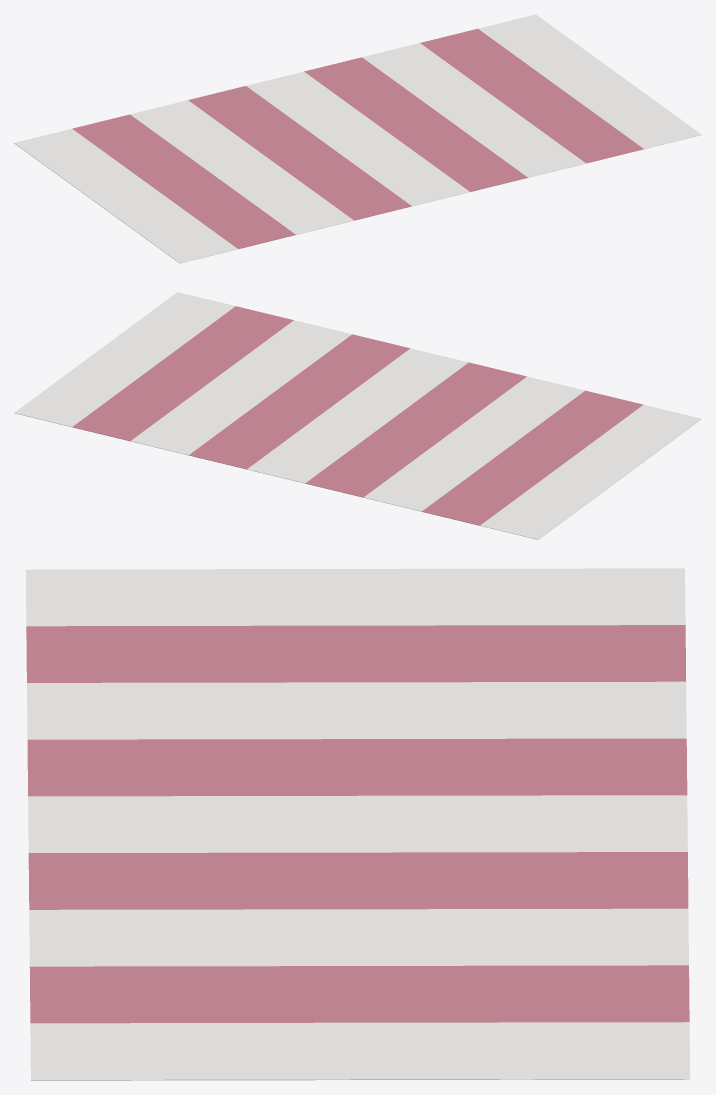
File: Carpet_6_231109.glb
The picture shows the model from 3 angles, top to bottom: view 1: azimuth 30°, elevation 25°; view 2: azimuth 150°, elevation 25°; view 3: azimuth 270°, elevation 25°; orthographic projection. The views are drawn at different scales.
Visible parts, largest first — view 1: Carpet_6; view 2: Carpet_6; view 3: Carpet_6.
Boxes of the visible parts, x1,y1,x2,y2 form: Carpet_6: (14, 14, 701, 263); Carpet_6: (14, 292, 701, 539); Carpet_6: (25, 568, 690, 1080).
Size of the model in its own units: 2.65 by 0.00146 by 1.45.
Materials: 1 (1 with a texture image).
